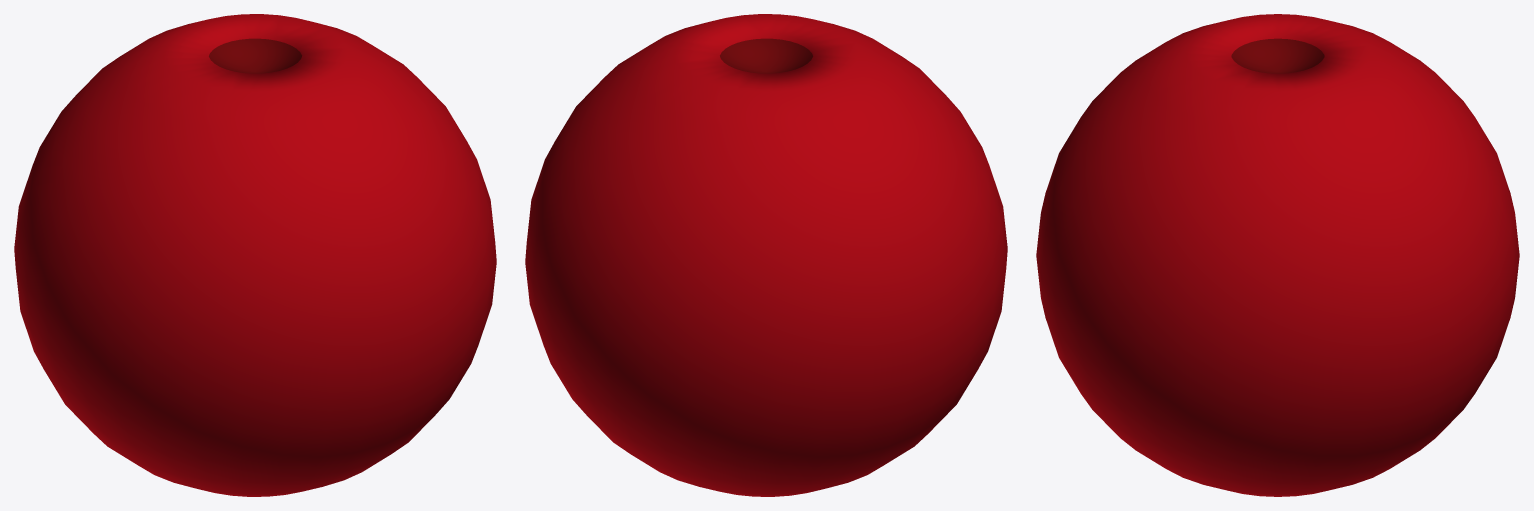
File: Cranberry.fbx
The picture shows the model from 3 angles, left to right: view 1: azimuth 30°, elevation 25°; view 2: azimuth 150°, elevation 25°; view 3: azimuth 270°, elevation 25°; orthographic projection.
Visible parts, largest first — view 1: CranberrySphere; view 2: CranberrySphere; view 3: CranberrySphere.
Boxes of the visible parts, box(x1,y1,x2,y2) form: CranberrySphere: box(14, 14, 496, 496); CranberrySphere: box(525, 14, 1007, 496); CranberrySphere: box(1036, 14, 1519, 496).
Size of the model in its own units: 200 by 188 by 200.
